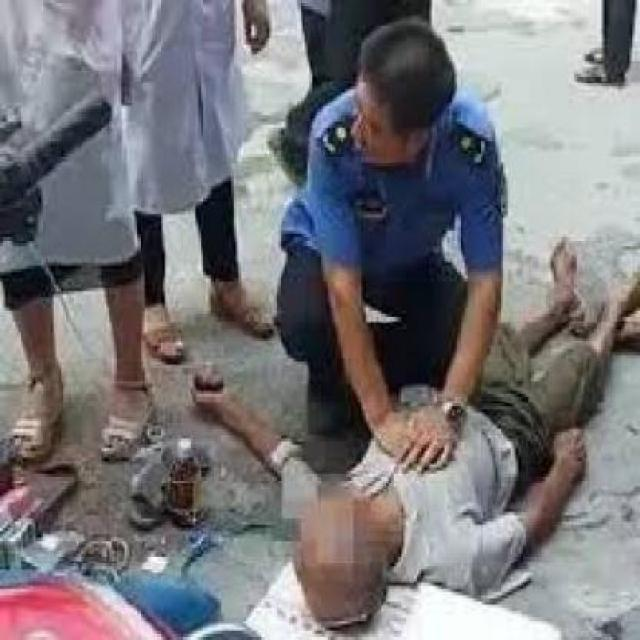fall: (175, 218, 638, 620)
